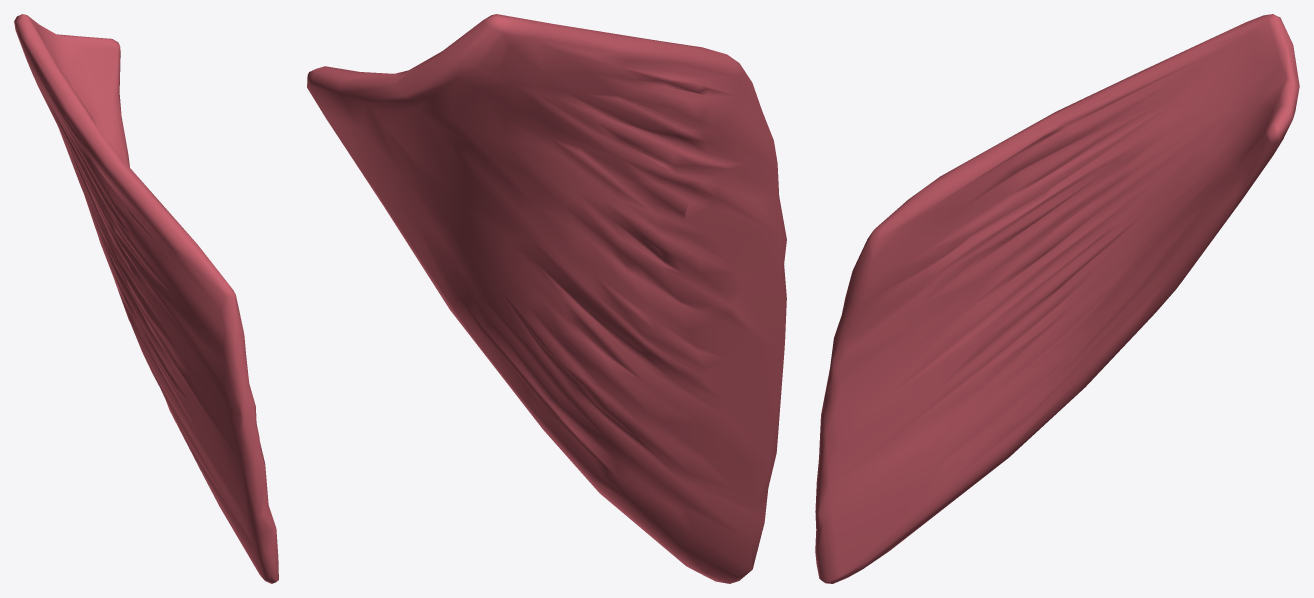
3 views of the same model, side by side, from view 1: azimuth 30°, elevation 25°; view 2: azimuth 150°, elevation 25°; view 3: azimuth 270°, elevation 25° (orthographic). The views are drawn at different scales.
Visible parts, largest first — view 1: 右侧舌骨舌肌; view 2: 右侧舌骨舌肌; view 3: 右侧舌骨舌肌.
Boxes of the visible parts, <box> form: 右侧舌骨舌肌: <box>14,14,278,583</box>; 右侧舌骨舌肌: <box>307,14,786,583</box>; 右侧舌骨舌肌: <box>815,14,1299,583</box>.
Bounding box in the file's own units: 0.0116 × 0.0453 × 0.0373.
